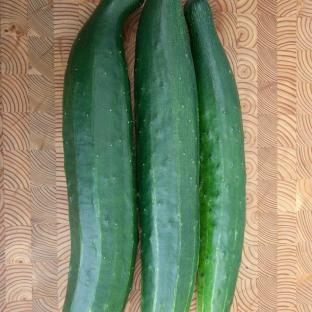Cucumber: (63, 0, 141, 311)
